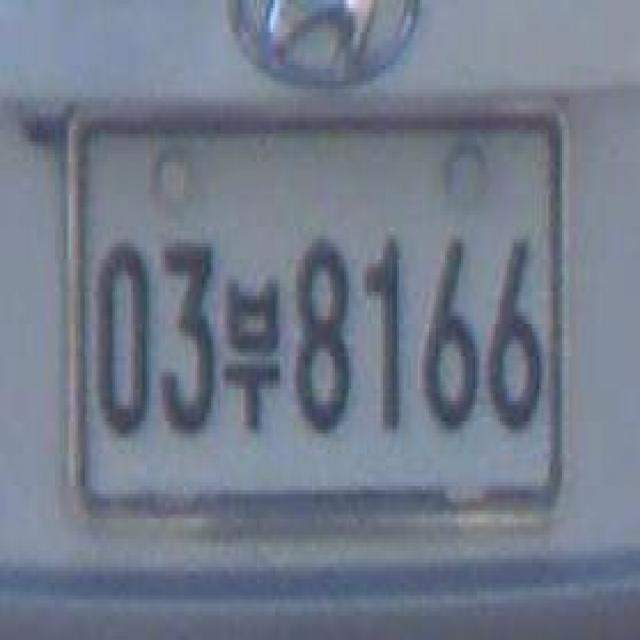illegal_plate: (66, 109, 573, 549)
